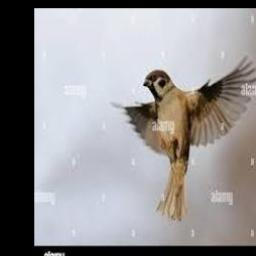Sparrow: (111, 55, 256, 221)
